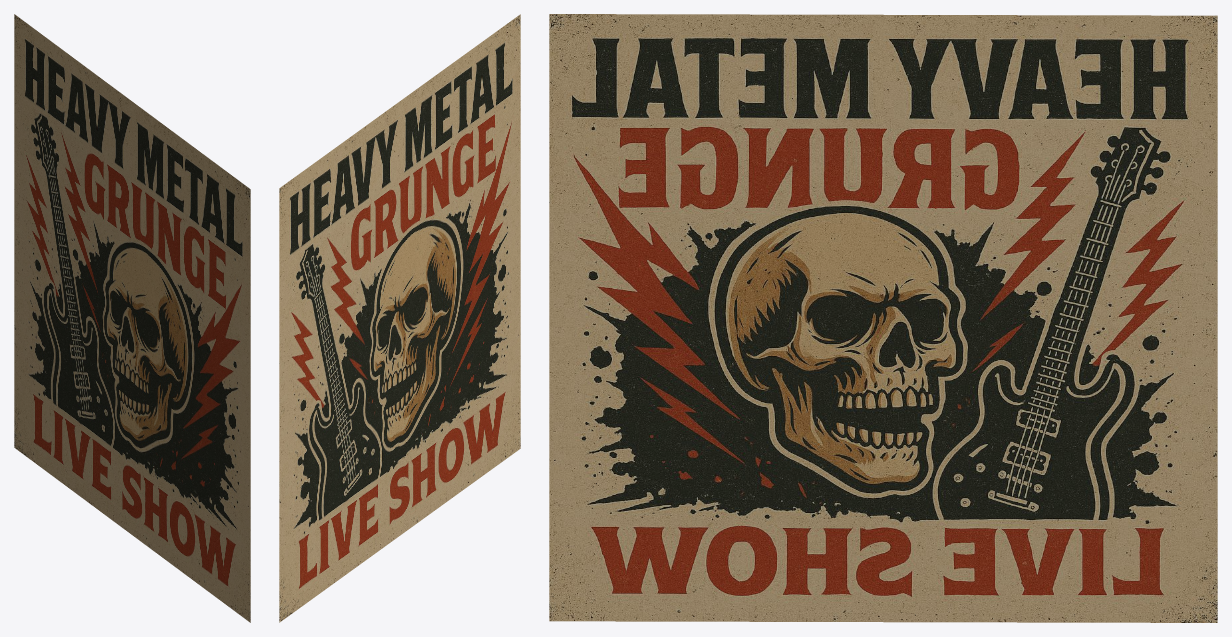
The model's file is image01.glb.
3 views of the same model, side by side, from view 1: azimuth 30°, elevation 25°; view 2: azimuth 150°, elevation 25°; view 3: azimuth 270°, elevation 25° (orthographic). The views are drawn at different scales.
Visible parts, largest first — view 1: image01; view 2: image01; view 3: image01.
Boxes of the visible parts, left/top/right/bottom form: image01: left=14, top=14, right=250, bottom=622; image01: left=279, top=14, right=520, bottom=622; image01: left=549, top=14, right=1217, bottom=622.
Size of the model in its own units: 0.0132 by 2.25 by 2.25.
1 material, 1 textured.
